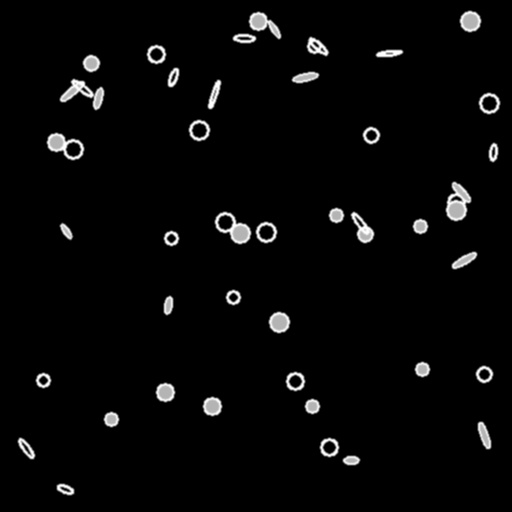pseudomonas: (59, 79, 85, 103), (350, 211, 370, 235), (70, 78, 94, 98), (451, 251, 477, 269), (451, 181, 471, 203), (307, 36, 329, 56), (207, 79, 221, 109), (17, 437, 35, 459), (477, 421, 491, 449), (166, 67, 180, 87), (292, 72, 318, 82), (267, 20, 281, 38), (56, 483, 74, 495), (376, 49, 402, 57), (93, 88, 103, 108), (60, 223, 72, 239), (163, 296, 173, 314), (489, 144, 497, 160), (343, 456, 359, 464), (234, 35, 254, 41)
synechocystis: (461, 12, 479, 30), (64, 140, 82, 158), (480, 94, 498, 112), (231, 224, 249, 242), (216, 213, 234, 231), (190, 121, 208, 139), (257, 223, 275, 241), (270, 313, 288, 331), (447, 201, 465, 219), (148, 46, 164, 62), (250, 13, 266, 29), (321, 439, 337, 455), (448, 194, 464, 210), (157, 384, 173, 400), (48, 134, 64, 150), (204, 398, 220, 414), (287, 373, 303, 389), (477, 367, 491, 381), (364, 128, 378, 142), (84, 56, 98, 70), (358, 227, 372, 241), (416, 363, 428, 375), (308, 40, 320, 52), (330, 209, 342, 221), (227, 291, 239, 303), (306, 400, 318, 412), (37, 374, 49, 386), (105, 413, 117, 425), (414, 220, 426, 232), (165, 232, 177, 244)
